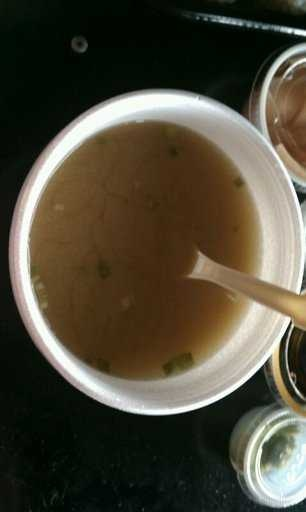soup: (17, 85, 297, 416)
